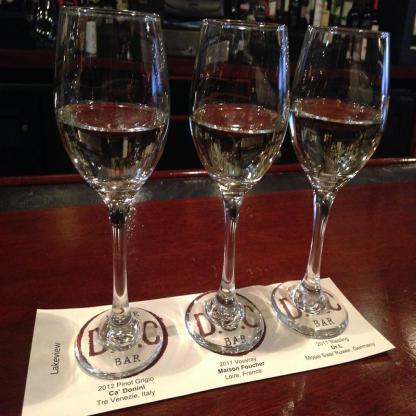drinking: (55, 6, 170, 380), (272, 24, 390, 338), (186, 18, 290, 356)
